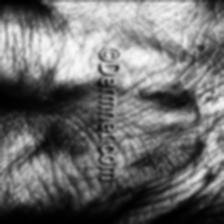Unclassified: (121, 82, 209, 177)
